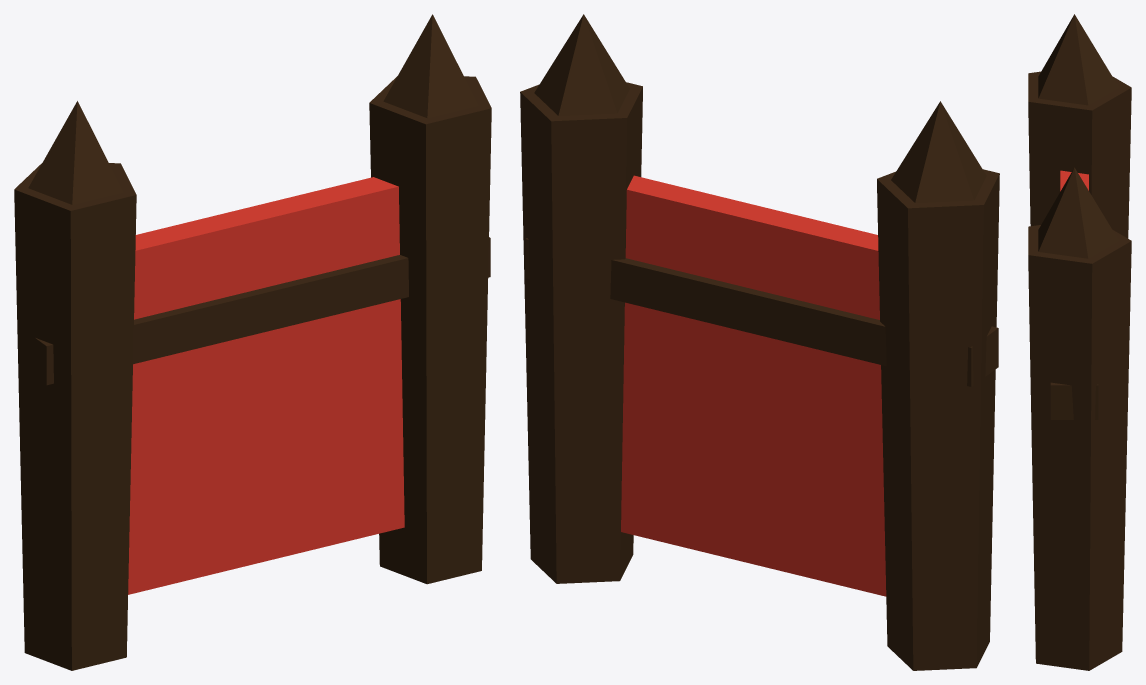
Rendered from bld_chastokol_gate.glb.
3 views of the same model, side by side, from view 1: azimuth 30°, elevation 25°; view 2: azimuth 150°, elevation 25°; view 3: azimuth 270°, elevation 25° (orthographic). The views are drawn at different scales.
Visible parts, largest first — view 1: bld_chastokol_gate; view 2: bld_chastokol_gate; view 3: bld_chastokol_gate.
Part boxes in pixels (left/top/right/bottom): bld_chastokol_gate: left=14, top=14, right=491, bottom=670; bld_chastokol_gate: left=520, top=14, right=999, bottom=670; bld_chastokol_gate: left=1028, top=14, right=1131, bottom=670.
Bounding box in the file's own units: 0.9883 × 1.12 × 0.2171.
